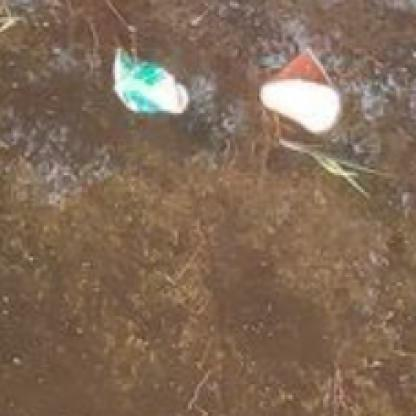Trash: (246, 45, 348, 139), (111, 48, 197, 121)
